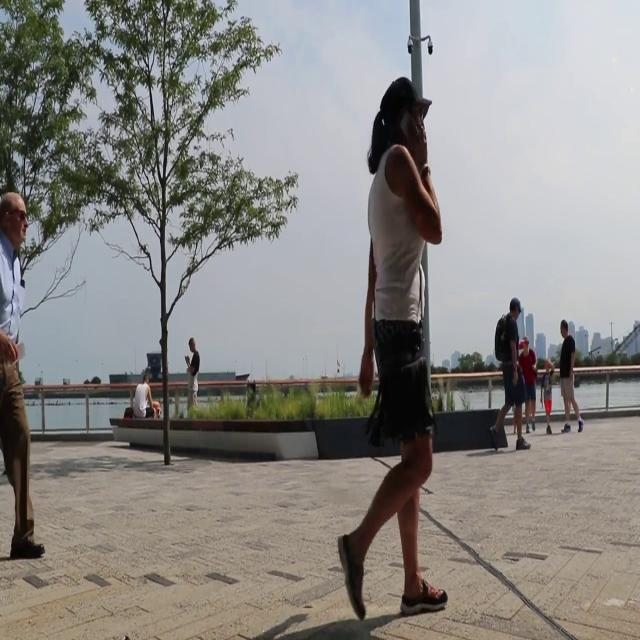normal: (332, 75, 458, 618), (1, 186, 52, 566)
